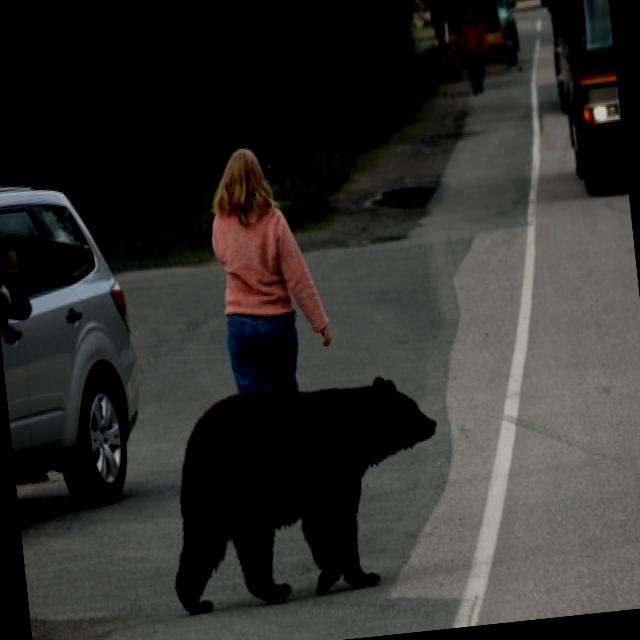Vehicle: (0, 171, 151, 513), (534, 0, 627, 195), (425, 0, 523, 85)
